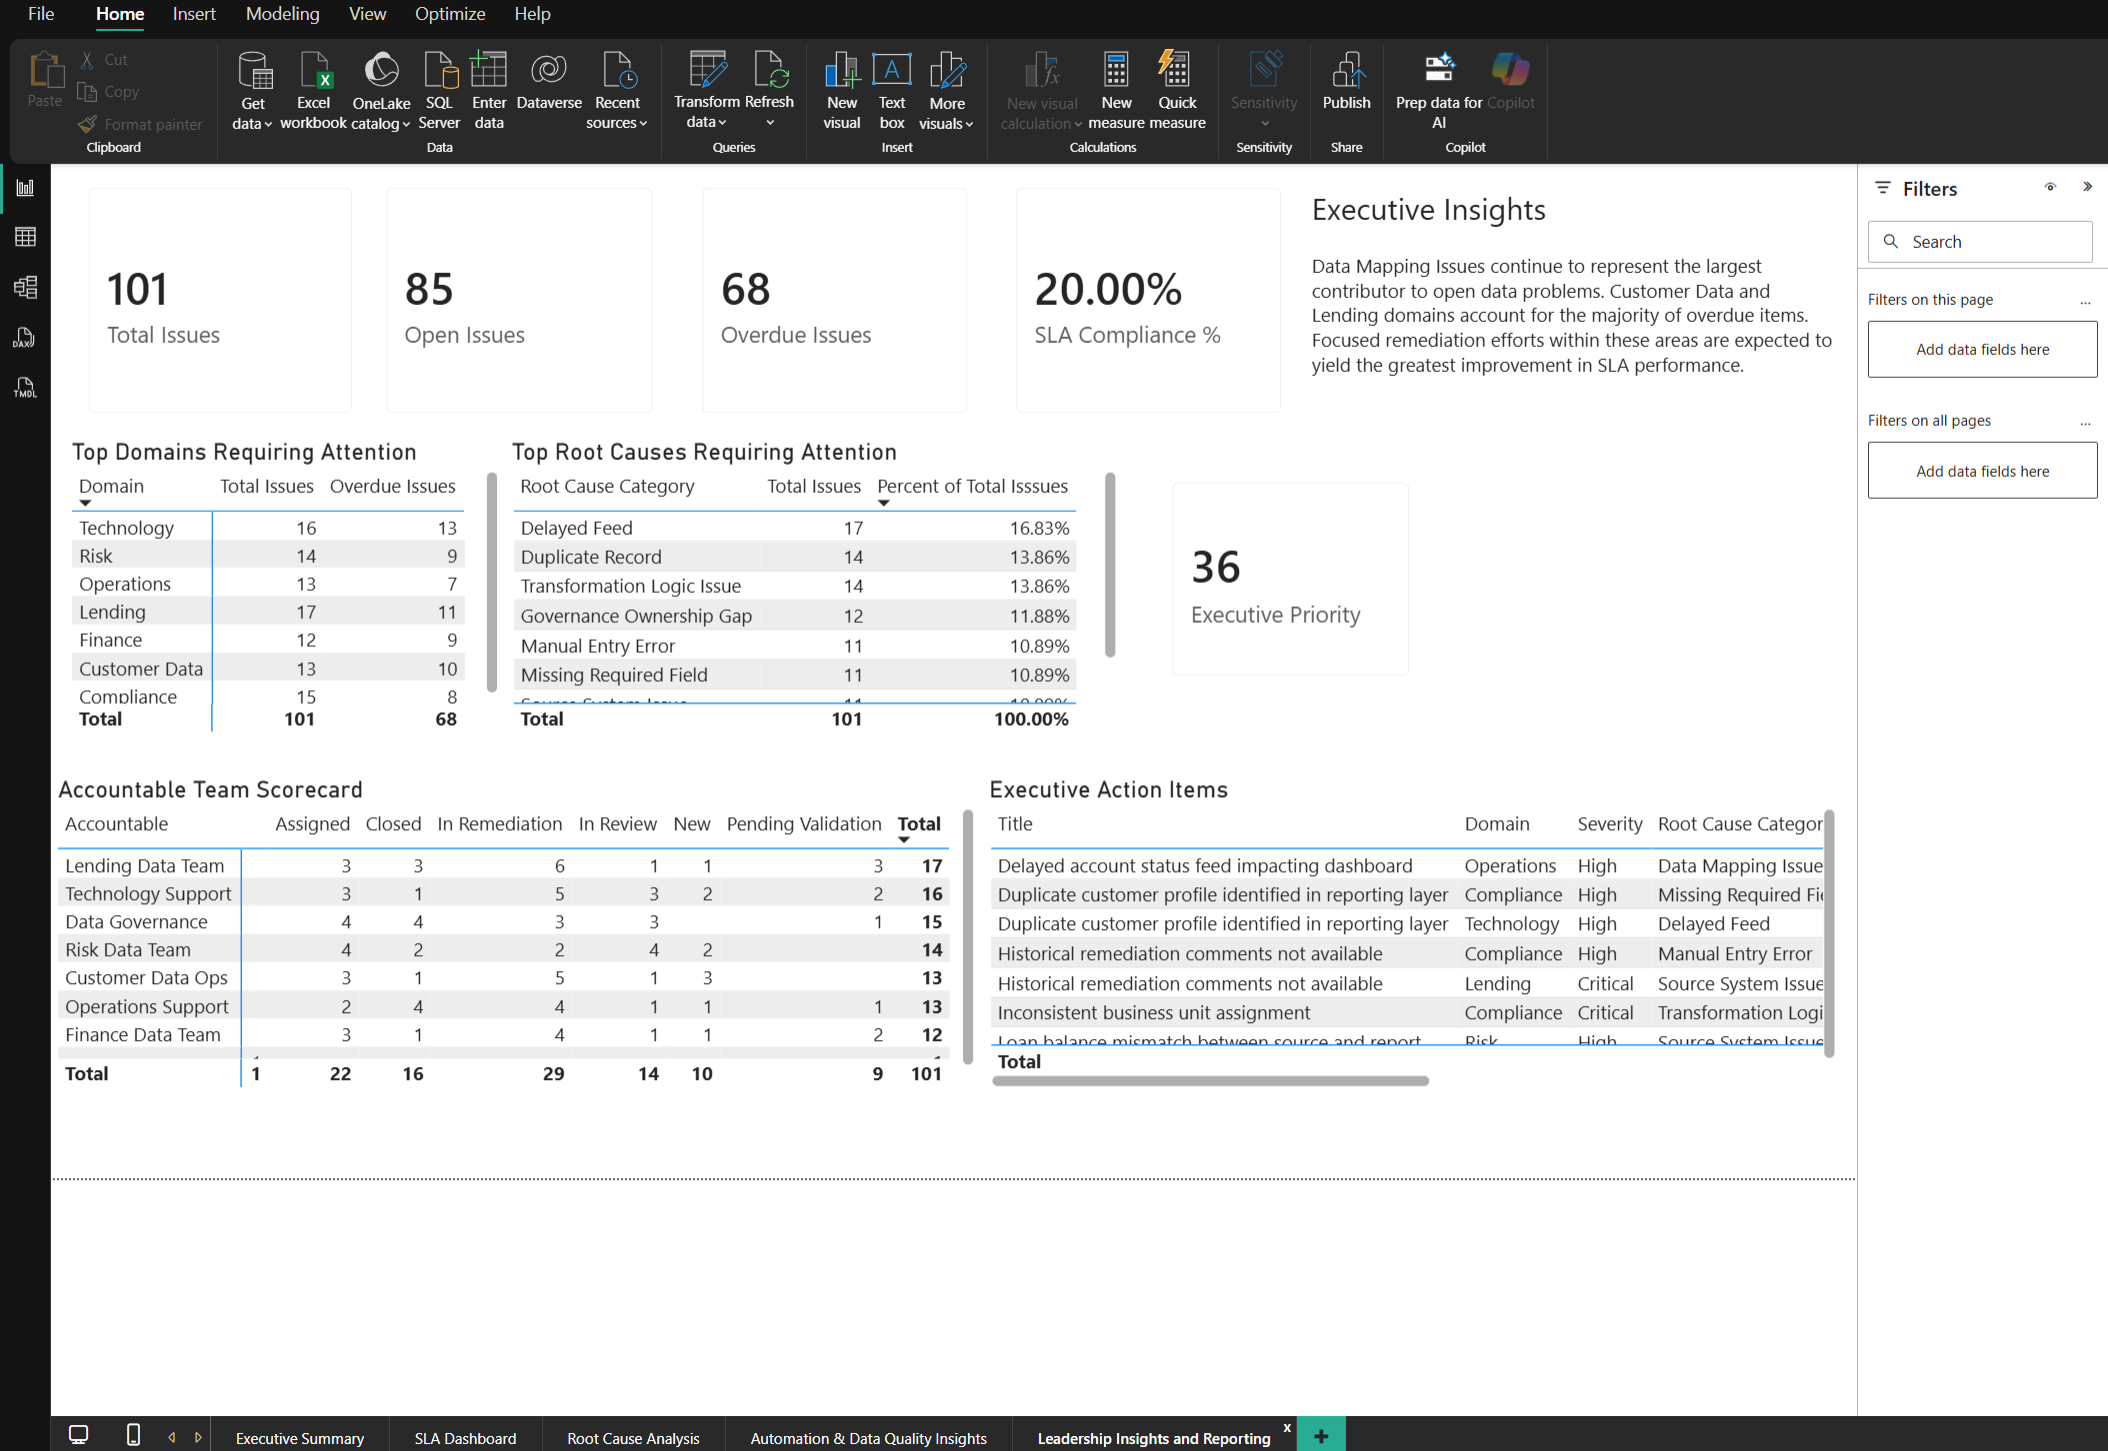

The dashboard page shown, as its layout file describes it:
{"tool":"powerbi","page":{"name":"Leadership Insights and Reporting","canvas":[1280,720],"ordinal":4},"visuals":[{"type":"cardVisual","fields":{"Data":["Data Problems.Total Issues"]},"box":[9.8,0,221.2,194.4],"z":0},{"type":"cardVisual","fields":{"Data":["Data Problems.Open Issues"]},"box":[220.5,0,223.8,194.4],"z":1000},{"type":"cardVisual","fields":{"Data":["Data Problems.Overdue Issues"]},"box":[444.3,0,222.5,194.4],"z":2000},{"type":"cardVisual","fields":{"Data":["Data Problems.SLA Compliance %"]},"box":[666.8,0,222.5,194.4],"z":3000},{"type":"pivotTable","title":"Top Domains  Requiring Attention","fields":{"Rows":["Data Problems.Domain"],"Values":["Data Problems.Total Issues","Data Problems.Overdue Issues"]},"box":[9.8,194.4,312.1,214],"z":4000},{"type":"tableEx","title":"Top Root Causes Requiring Attention","fields":{"Values":["Data Problems.Root Cause Category","Data Problems.Total Issues","Data Problems.Percent of Total Isssues"]},"box":[322,194.4,438.4,214],"z":5000},{"type":"pivotTable","title":"Accountable Team Scorecard","fields":{"Rows":["Data Problems.Accountable"],"Columns":["Data Problems.Status"],"Values":["Data Problems.Total Issues"]},"box":[0,433.2,659.6,226.4],"z":6000},{"type":"tableEx","title":"Executive Action Items","fields":{"Values":["Data Problems.Title ","Data Problems.Domain","Data Problems.Severity","Data Problems.Root Cause Category","Data Problems.Accountable","Data Problems.Target Date.Variation.Date Hierarchy.Year","Data Problems.Target Date.Variation.Date Hierarchy.Quarter","Data Problems.Target Date.Variation.Date Hierarchy.Month","Data Problems.Target Date.Variation.Date Hierarchy.Day","Sum(Data Problems.Days Open)","Data Problems.Status"]},"box":[659.6,433.2,609.9,226.4],"z":7000},{"type":"cardVisual","fields":{"Data":["Data Problems.Executive Priority"]},"box":[778.1,209.4,202.2,171.5],"z":8000},{"type":"textbox","box":[888.7,11.8,380.9,182.6],"z":9000}]}

Visuals, with their boxes on the page's 1280x720 design canvas (x1, y1, x2, y2). These are canvas units, not pixel positions in the 2108x1451 screenshot, which may show the page scaled, cropped or inside an application window:
cardVisual - Data Problems.Total Issues: (x1=10, y1=0, x2=231, y2=194)
cardVisual - Data Problems.Open Issues: (x1=220, y1=0, x2=444, y2=194)
cardVisual - Data Problems.Overdue Issues: (x1=444, y1=0, x2=667, y2=194)
cardVisual - Data Problems.SLA Compliance %: (x1=667, y1=0, x2=889, y2=194)
"Top Domains  Requiring Attention" pivotTable: (x1=10, y1=194, x2=322, y2=408)
"Top Root Causes Requiring Attention" tableEx: (x1=322, y1=194, x2=760, y2=408)
"Accountable Team Scorecard" pivotTable: (x1=0, y1=433, x2=660, y2=660)
"Executive Action Items" tableEx: (x1=660, y1=433, x2=1270, y2=660)
cardVisual - Data Problems.Executive Priority: (x1=778, y1=209, x2=980, y2=381)
textbox: (x1=889, y1=12, x2=1270, y2=194)
